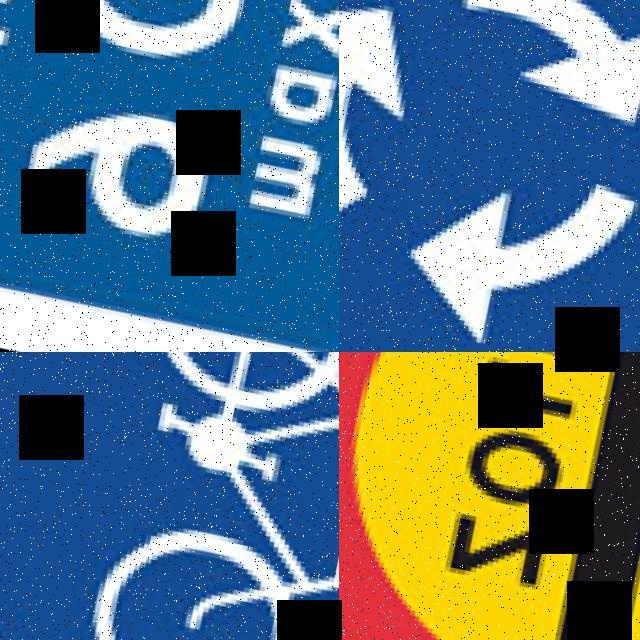117: (339, 352, 640, 640)
16: (339, 0, 640, 352)
90: (0, 352, 339, 640)
Roundabout: (339, 0, 640, 352)
speed limit-90: (0, 0, 339, 352)
